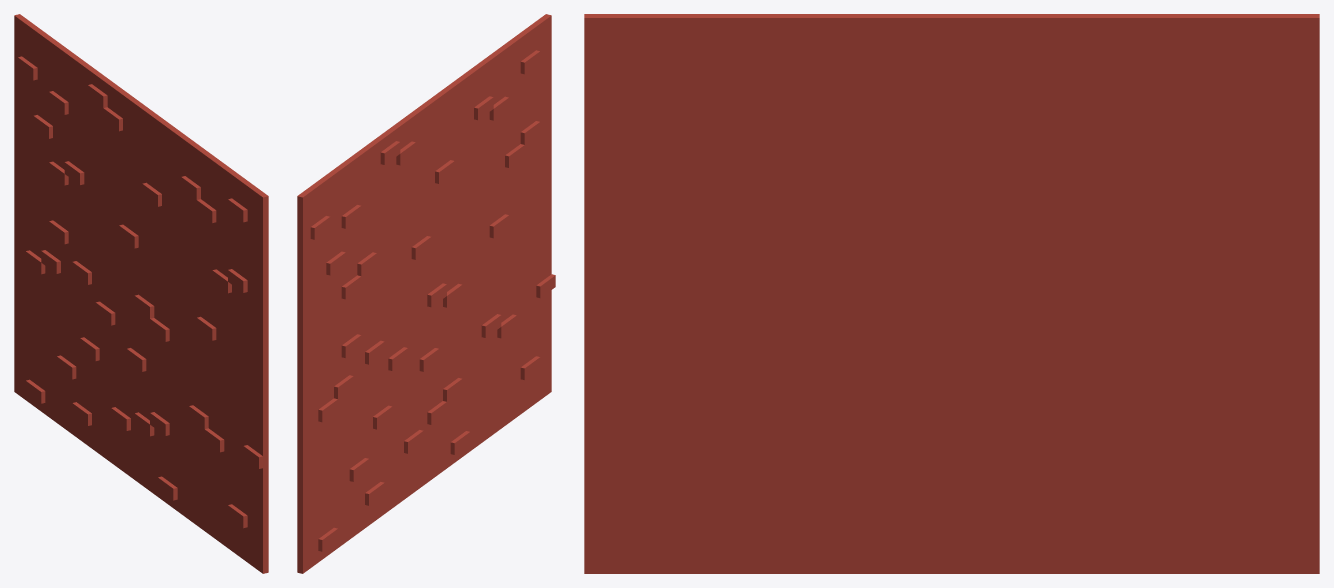
File: sein.fbx
3 views of the same model, side by side, from view 1: azimuth 30°, elevation 25°; view 2: azimuth 150°, elevation 25°; view 3: azimuth 270°, elevation 25° (orthographic). The views are drawn at different scales.
Parts seen in each view (by area): view 1: vasaksein; view 2: vasaksein; view 3: vasaksein.
Part boxes in pixels (left/top/right/bottom): vasaksein: left=14, top=14, right=268, bottom=573; vasaksein: left=297, top=14, right=555, bottom=573; vasaksein: left=584, top=14, right=1319, bottom=573.
Bounding box in the file's own units: 22.62 × 834 × 999.
